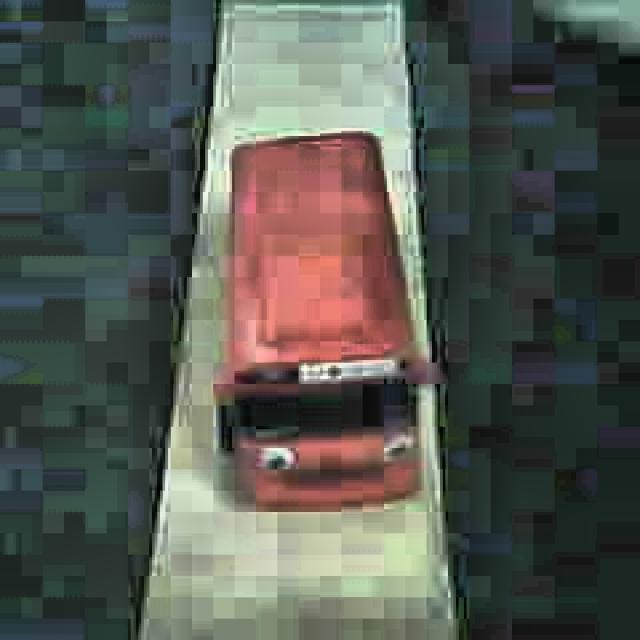bus: (214, 128, 434, 515)
